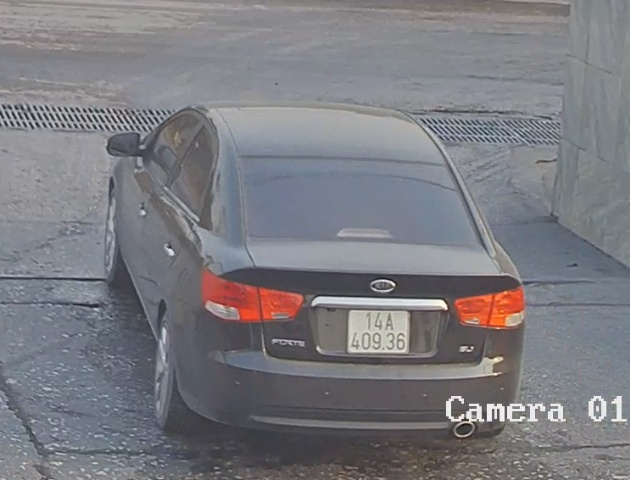vehicle plate: (343, 301, 412, 355)
